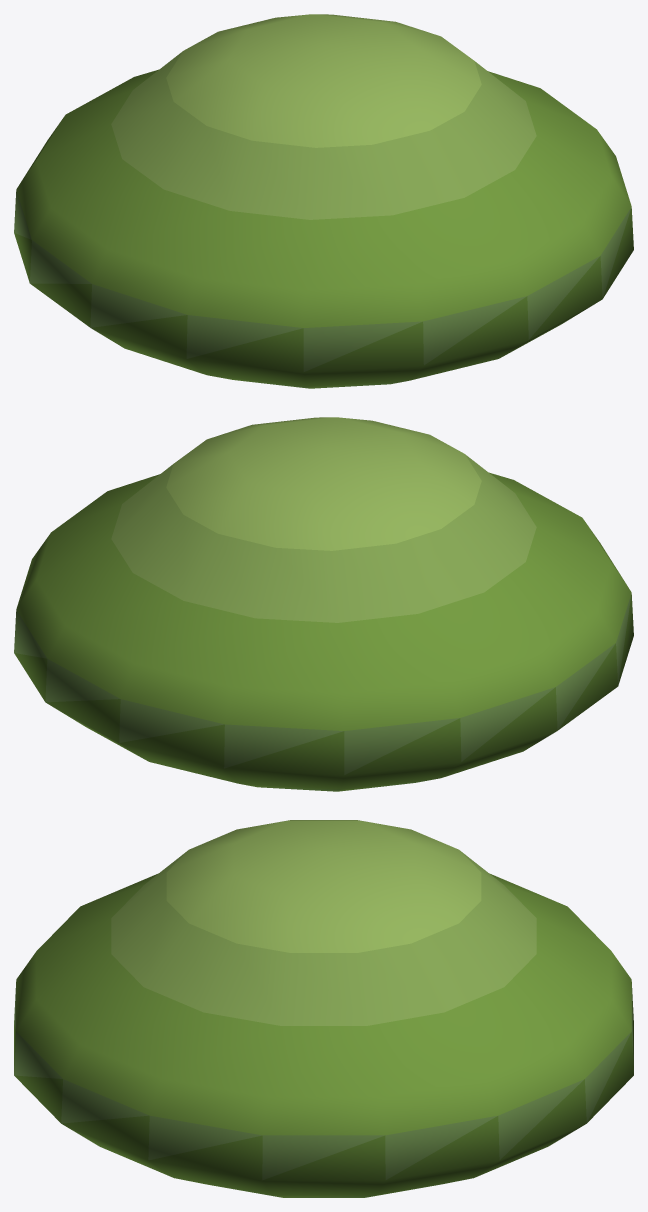
The model's file is itch_kaykit_forest_bush_3_b_color1.glb.
3 views of the same model, one above another, from view 1: azimuth 30°, elevation 25°; view 2: azimuth 150°, elevation 25°; view 3: azimuth 270°, elevation 25° (orthographic).
Visible parts, largest first — view 1: Bush_3_B_Color1; view 2: Bush_3_B_Color1; view 3: Bush_3_B_Color1.
Boxes of the visible parts, x1,y1,x2,y2 form: Bush_3_B_Color1: (14, 14, 633, 388); Bush_3_B_Color1: (14, 417, 633, 791); Bush_3_B_Color1: (14, 820, 633, 1197).
Size of the model in its own units: 0.96 by 0.4583 by 0.96.
